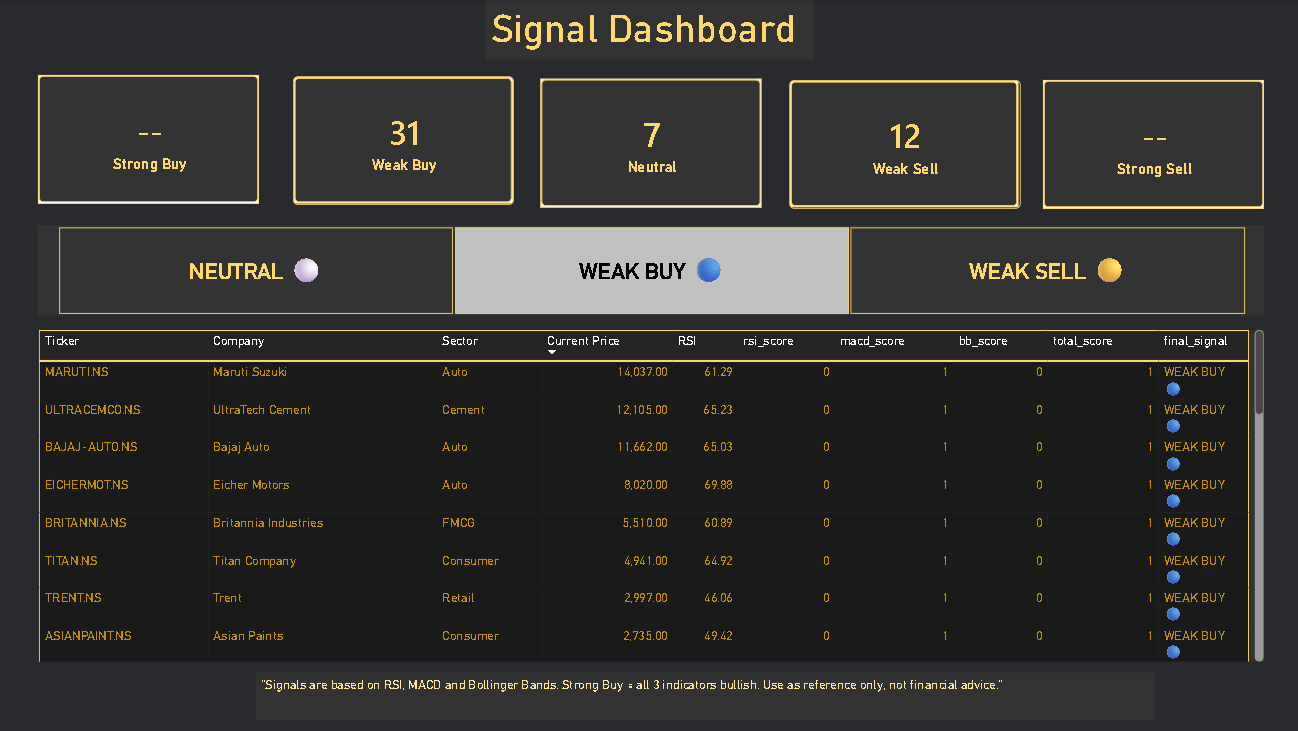

The dashboard page shown, as its layout file describes it:
{"tool":"powerbi","page":{"name":"signal Dashboard","canvas":[1280,720],"ordinal":3},"visuals":[{"type":"textbox","box":[478.8,0,322.5,58.8],"z":0},{"type":"cardVisual","fields":{"Data":["CurrentSignal.Weak Sell"]},"box":[776.7,78.5,227,126.4],"z":1000},{"type":"cardVisual","fields":{"Data":["CurrentSignal.Weak Buy"]},"box":[289.6,74.8,217.2,126.4],"z":2000},{"type":"cardVisual","fields":{"Data":["CurrentSignal.Strong Buy"]},"box":[39.3,73.6,217.2,126.4],"z":3000},{"type":"cardVisual","fields":{"Data":["CurrentSignal.Neutral"]},"box":[532.5,77.3,217.2,126.4],"z":4000},{"type":"cardVisual","fields":{"Data":["CurrentSignal.Strong Sell"]},"box":[1025.8,78.5,217.2,126.4],"z":5000},{"type":"slicer","fields":{"Values":["CurrentSignal.final_signal"]},"box":[39.8,220.9,1203.4,89.2],"z":6000},{"type":"tableEx","fields":{"Values":["CurrentSignal.Ticker","StockData.Company","StockData.Sector","StockData.Current Price","CurrentSignal.RSI","CurrentSignal.rsi_score","CurrentSignal.macd_score","CurrentSignal.bb_score","CurrentSignal.total_score","CurrentSignal.final_signal"]},"box":[39.8,323.8,1203.4,325.2],"z":7000},{"type":"textbox","box":[252.5,660,882.3,46.7],"z":8000}]}

Visuals, with their boxes in screenshot pixels (x1, y1, x2, y2), scaled from the page's 1280x720 canvas onto the 1298x731 screenshot:
textbox: [486,0,813,60]
cardVisual - CurrentSignal.Weak Sell: [788,80,1018,208]
cardVisual - CurrentSignal.Weak Buy: [294,76,514,204]
cardVisual - CurrentSignal.Strong Buy: [40,75,260,203]
cardVisual - CurrentSignal.Neutral: [540,78,760,207]
cardVisual - CurrentSignal.Strong Sell: [1040,80,1260,208]
slicer - CurrentSignal.final_signal: [40,224,1261,315]
tableEx - CurrentSignal.Ticker x StockData.Company: [40,329,1261,659]
textbox: [256,670,1151,717]
